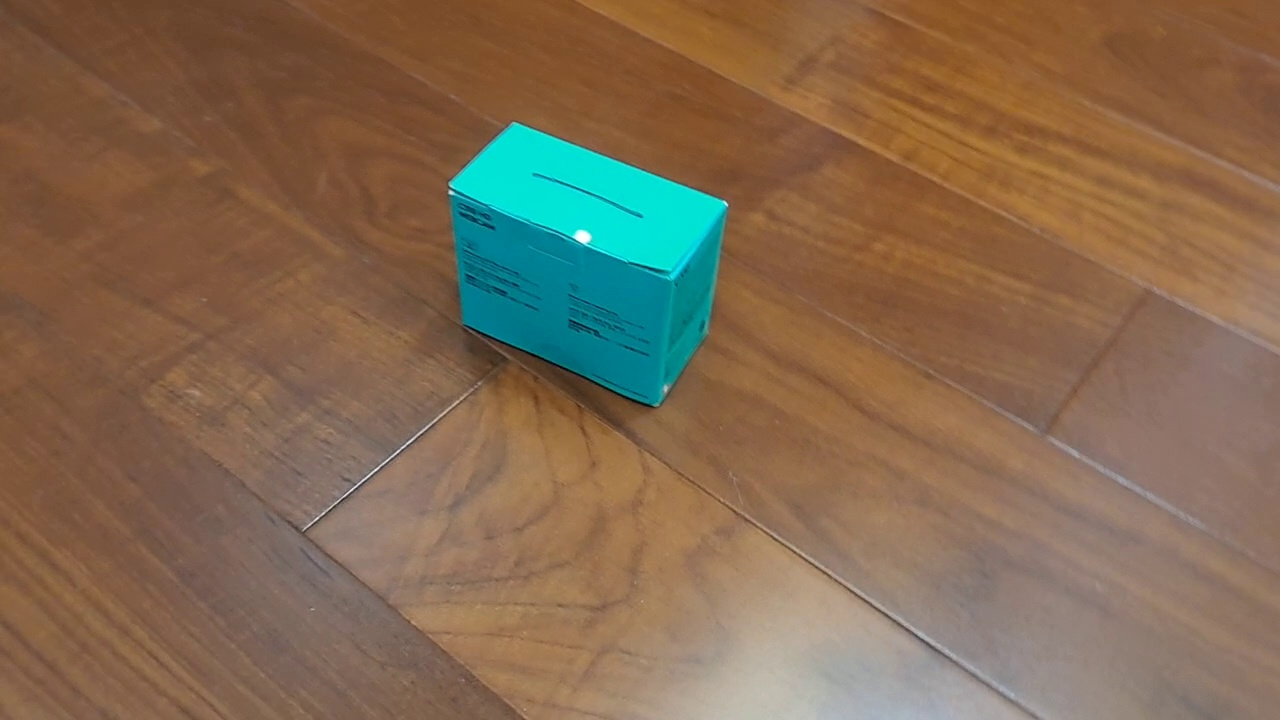webcam: (444, 119, 731, 410)
